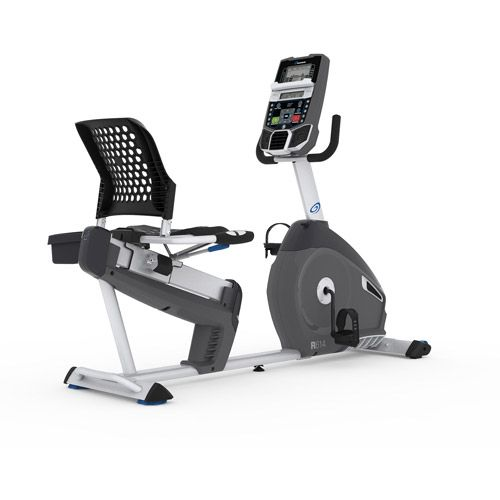gym_bike: (36, 41, 443, 421)
